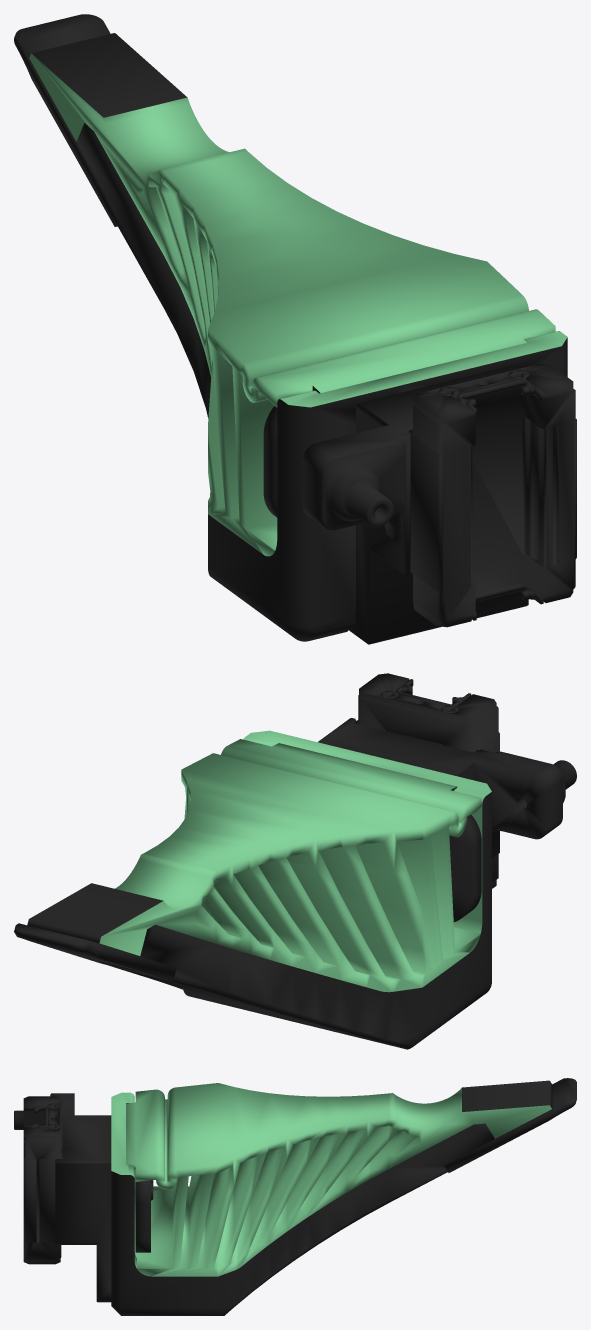
The model's file is right_grippera_link.glb.
3 views of the same model, one above another, from view 1: azimuth 30°, elevation 25°; view 2: azimuth 150°, elevation 25°; view 3: azimuth 270°, elevation 25° (orthographic). The views are drawn at different scales.
Parts seen in each view (by area): view 1: right_grippera_link (×2); view 2: right_grippera_link (×2); view 3: right_grippera_link (×2).
Part boxes in pixels (left/top/right/bottom): right_grippera_link (×2): left=14, top=14, right=576, bottom=644; right_grippera_link (×2): left=14, top=673, right=576, bottom=1049; right_grippera_link (×2): left=14, top=1078, right=576, bottom=1315.
Size of the model in its own units: 0.0435 by 0.043 by 0.1157.
